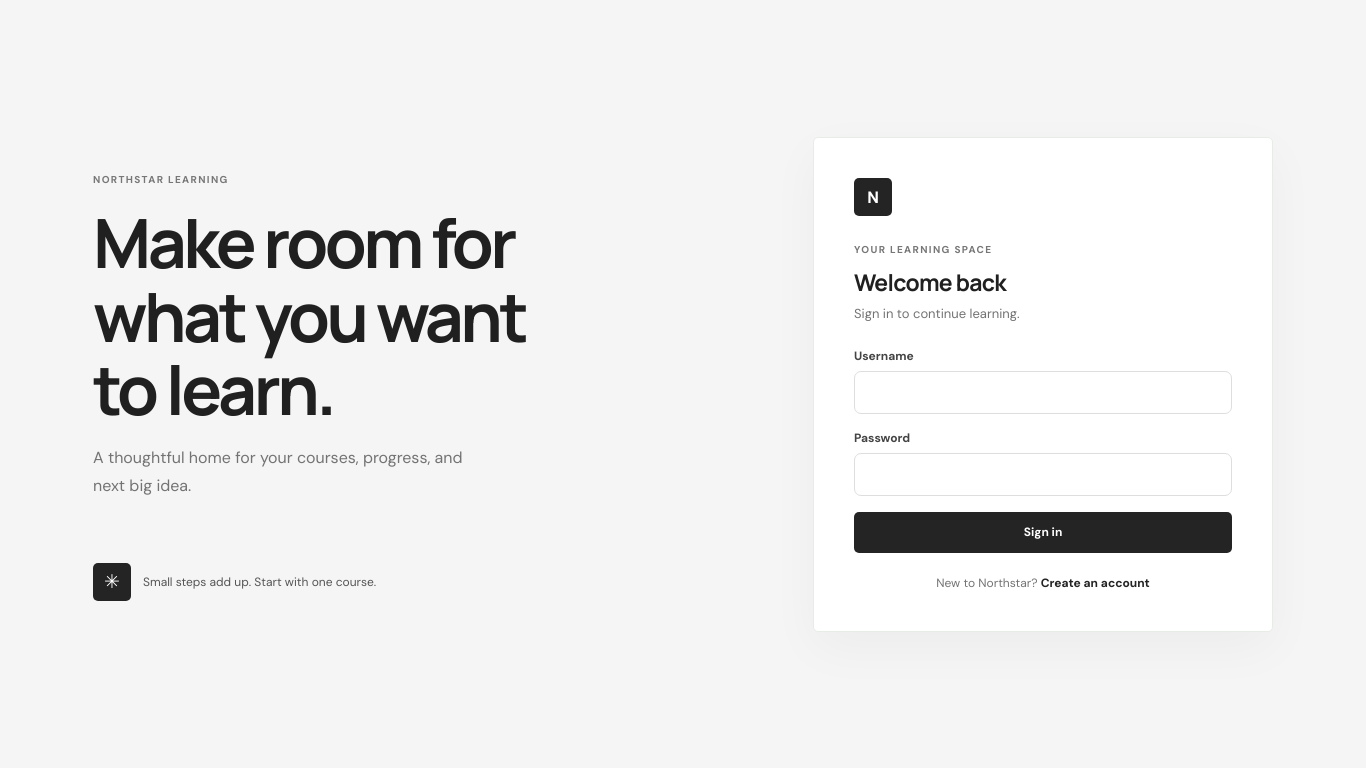
Test: Learning Management System › shows teacher-specific courses and management navigation
In the field labelled "Username": (1043, 392) x1=854 y1=370 x2=1232 y2=414, type "sam"
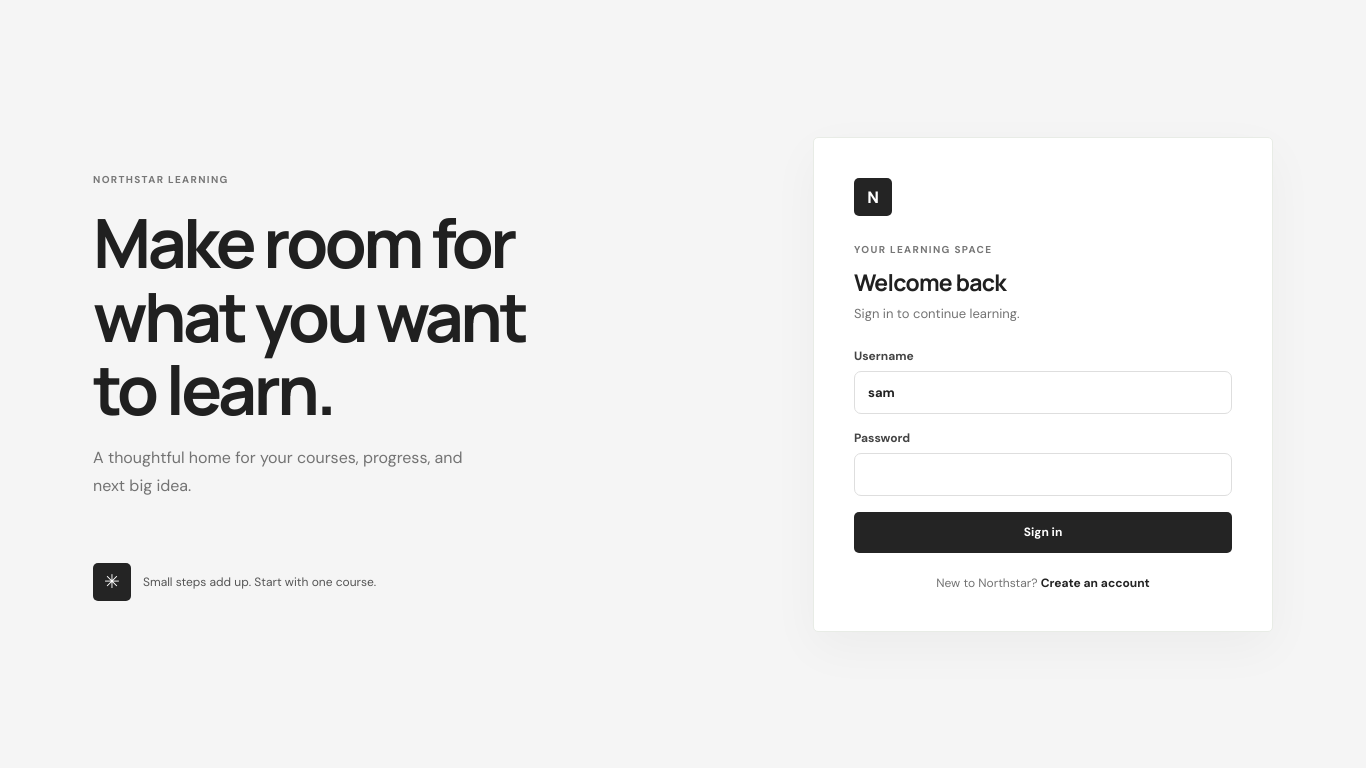
In the password field labelled "Password": (1043, 474) x1=854 y1=452 x2=1232 y2=496, type "a-secure-password"
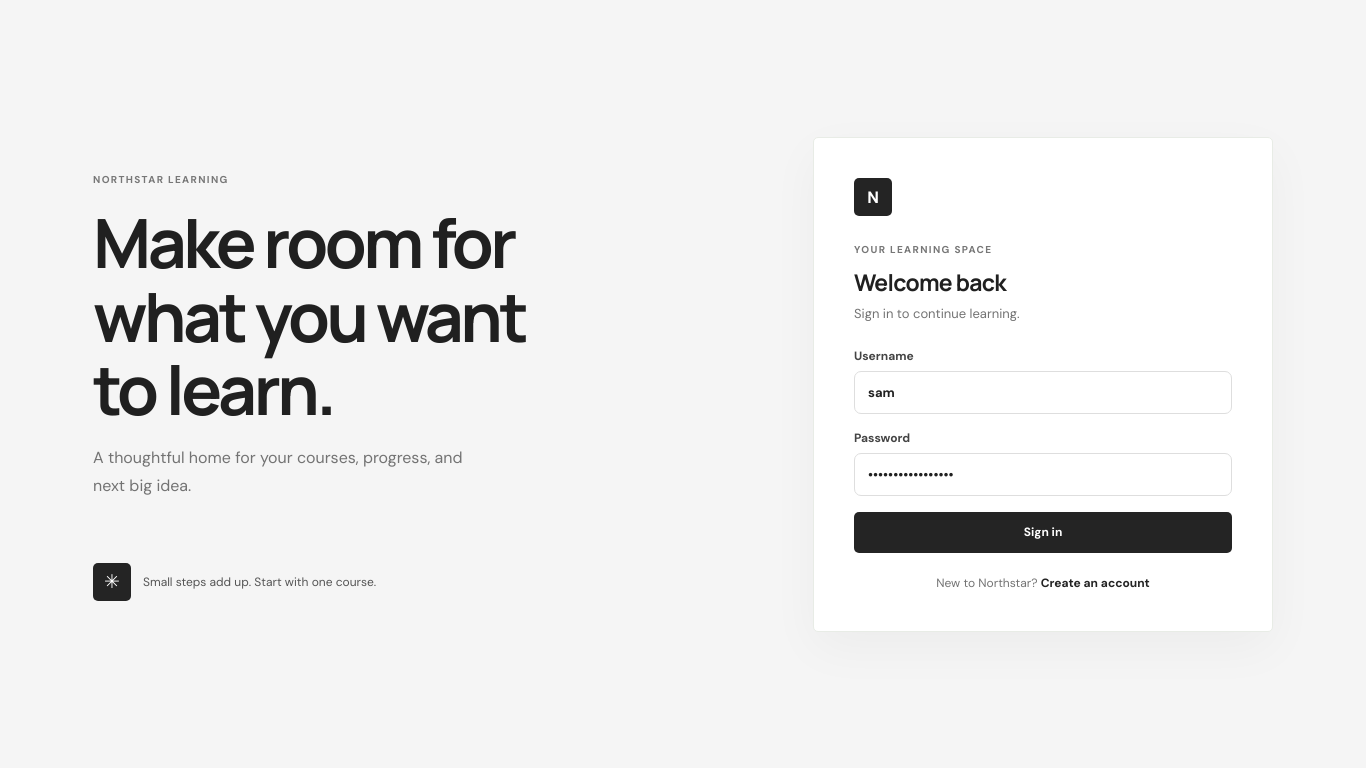
Click the button "Sign in": (1043, 532) x1=854 y1=512 x2=1232 y2=552
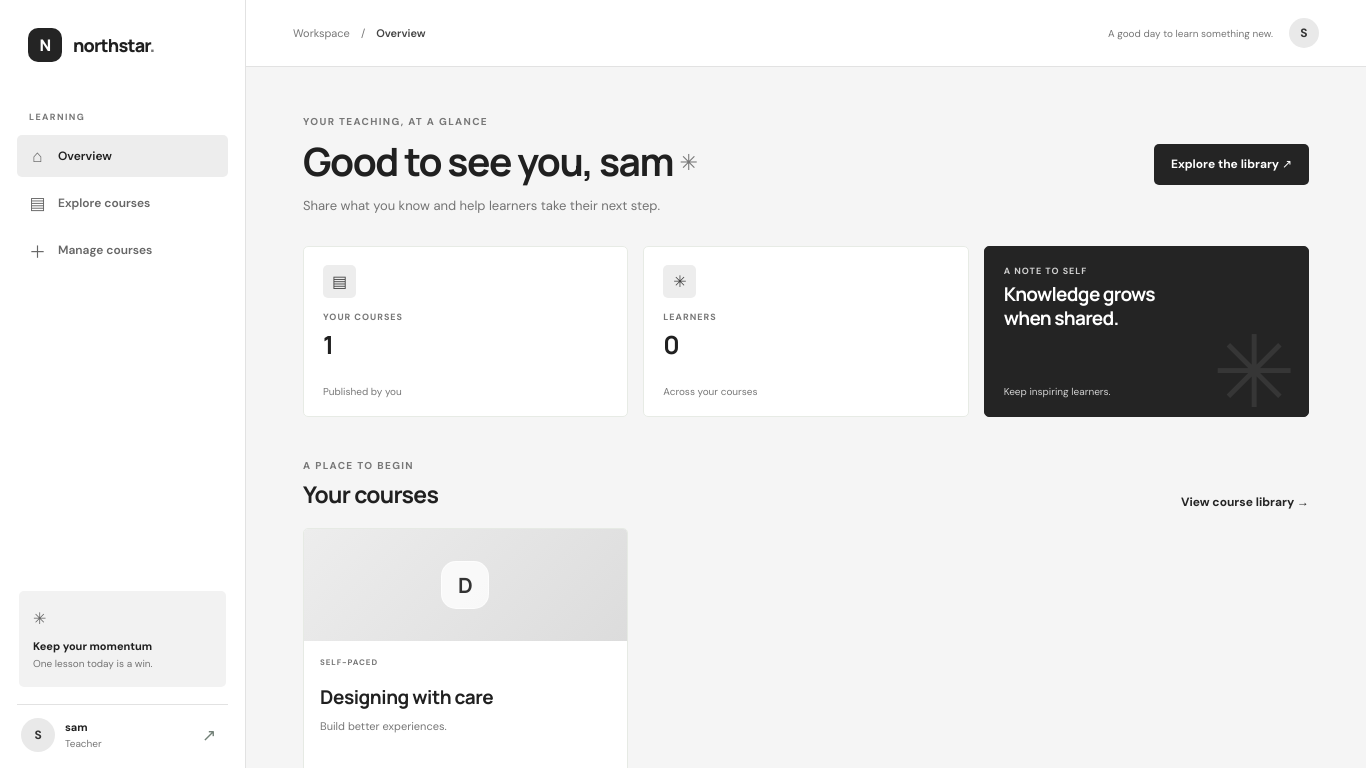
Now the heading "Your courses" is shown, box x1=303 y1=478 x2=438 y2=510
Now the heading "Designing with care" is shown, box x1=320 y1=684 x2=493 y2=710
Now the button "＋ Manage courses" is shown, box x1=17 y1=229 x2=228 y2=271
